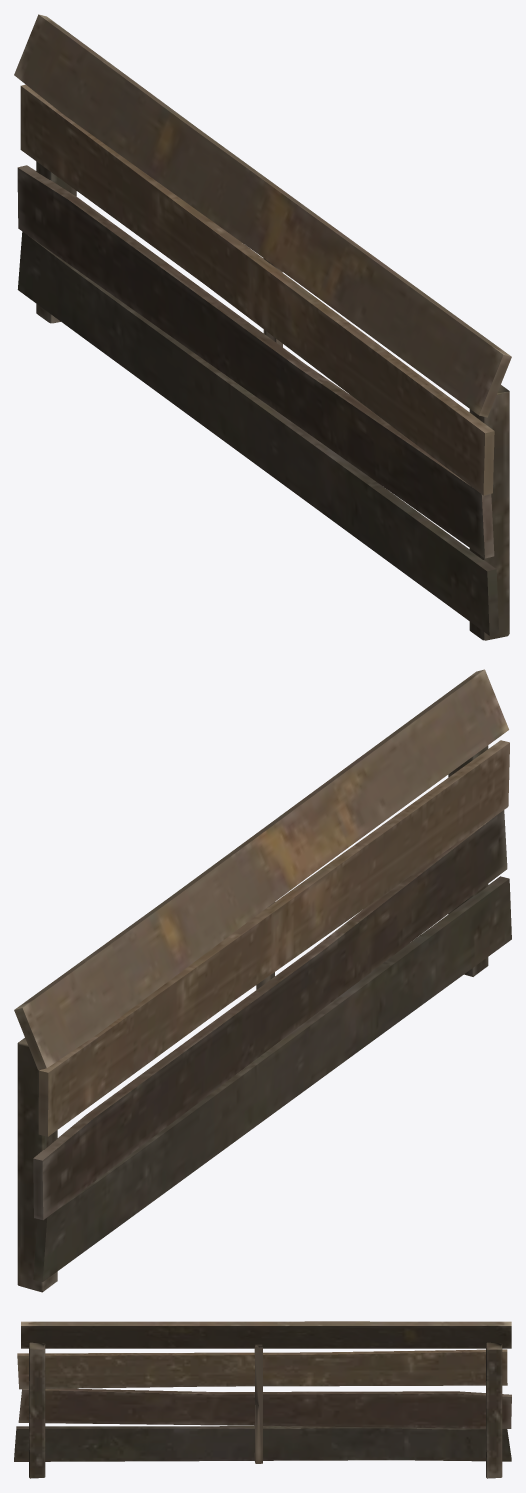
File: foundation.frontier.wall_variant_d.glb
3 renders of one model, top to bottom at view 1: azimuth 30°, elevation 25°; view 2: azimuth 150°, elevation 25°; view 3: azimuth 270°, elevation 25°, orthographic. The views are drawn at different scales.
Visible parts, largest first — view 1: model; view 2: model; view 3: model.
Boxes of the visible parts, x1=… form: model: x1=14, y1=14, x2=511, y2=640; model: x1=14, y1=669, x2=511, y2=1292; model: x1=14, y1=1321, x2=511, y2=1478.
Size of the model in its own units: 0.1496 by 1.03 by 3.03.
1 material, 1 textured.
